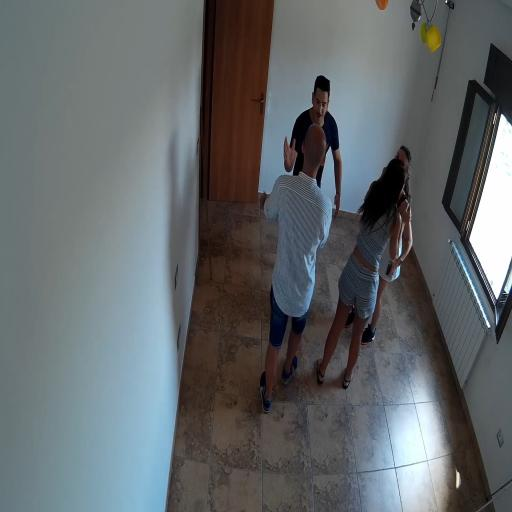nao-violencia: (251, 59, 343, 421), (311, 129, 421, 401)
